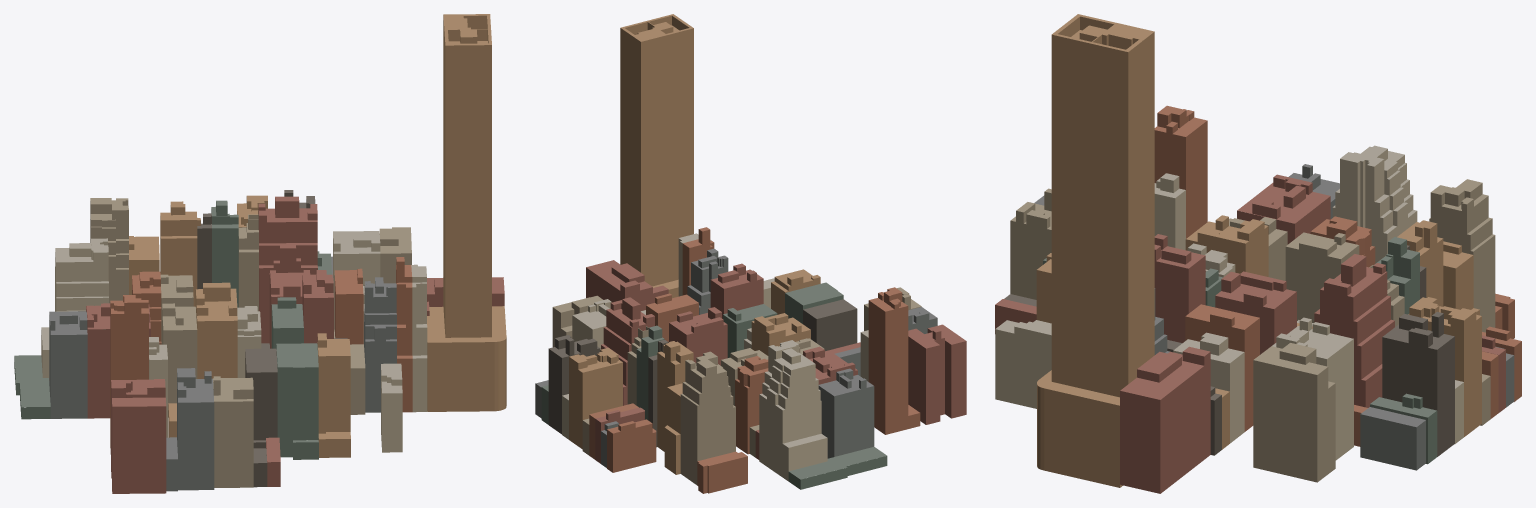
File: tile-5_-12.glb
3 renders of one model, left to right at view 1: azimuth 30°, elevation 25°; view 2: azimuth 150°, elevation 25°; view 3: azimuth 270°, elevation 25°, orthographic. The views are drawn at different scales.
Parts seen in each view (by area): view 1: wall, roof; view 2: wall, roof; view 3: wall, roof.
Part boxes in pixels (box(x1,y1,x2,y2)): wall: box(14, 15, 506, 493); roof: box(14, 14, 506, 463); wall: box(535, 16, 966, 493); roof: box(536, 14, 965, 479); wall: box(995, 16, 1521, 493); roof: box(995, 14, 1521, 427).
Size of the model in its own units: 235 by 199 by 215.
